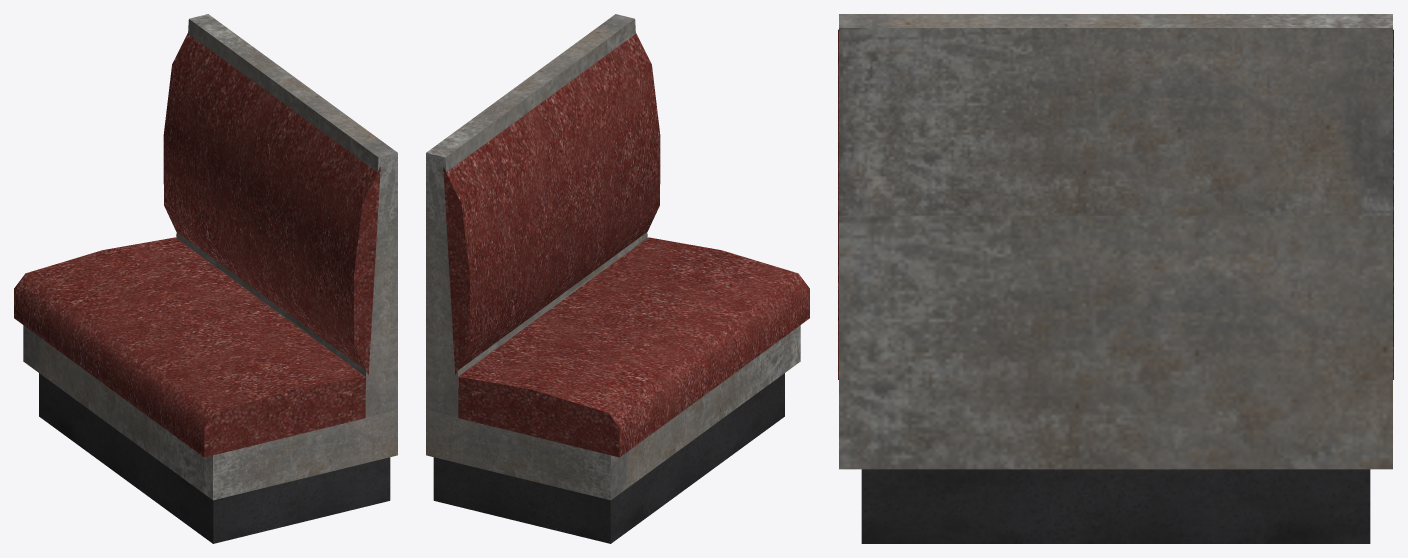
File: Seat.dae
3 views of the same model, side by side, from view 1: azimuth 30°, elevation 25°; view 2: azimuth 150°, elevation 25°; view 3: azimuth 270°, elevation 25° (orthographic). The views are drawn at different scales.
Parts seen in each view (by area): view 1: Seat; view 2: Seat; view 3: Seat.
Boxes of the visible parts, x1,y1,x2,y2 form: Seat: (14,14,397,543); Seat: (426,14,809,543); Seat: (838,14,1393,543).
Bounding box in the file's own units: 0.643 × 1.09 × 1.12.
Materials: 1 (1 with a texture image).
